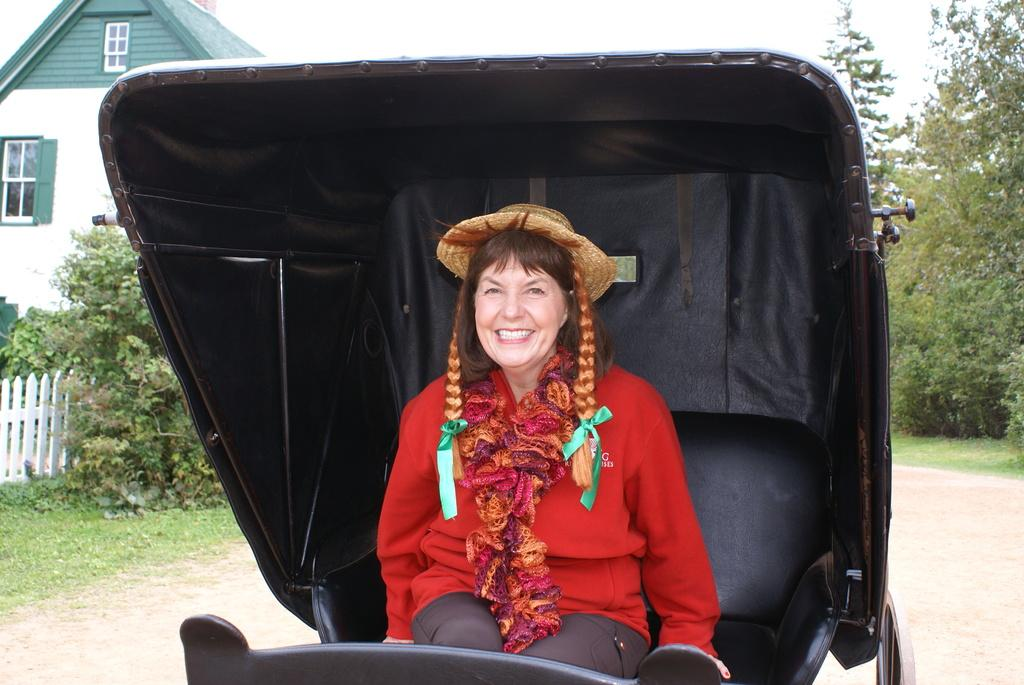Hat: (432, 201, 616, 314)
